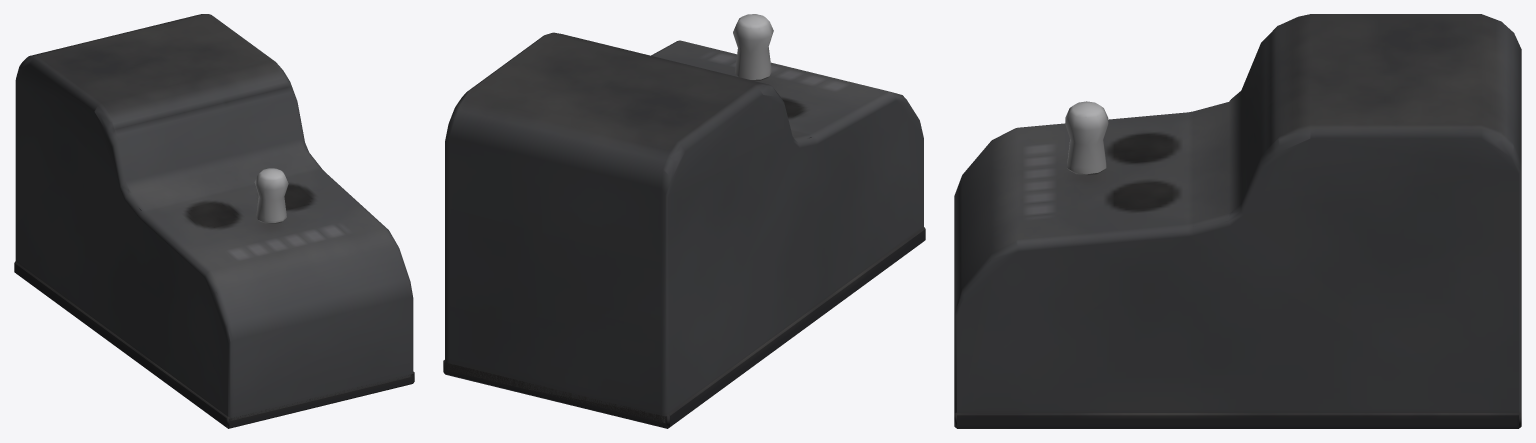
File: CentralConsole.fbx
The picture shows the model from 3 angles, left to right: view 1: azimuth 30°, elevation 25°; view 2: azimuth 150°, elevation 25°; view 3: azimuth 270°, elevation 25°; orthographic projection. The views are drawn at different scales.
Parts seen in each view (by area): view 1: CentralConsole_LOD0; view 2: CentralConsole_LOD0; view 3: CentralConsole_LOD0.
Boxes of the visible parts, x1,y1,x2,y2 form: CentralConsole_LOD0: [14, 14, 414, 428]; CentralConsole_LOD0: [443, 14, 925, 428]; CentralConsole_LOD0: [954, 14, 1521, 428].
Size of what is drawn, in the model's own units: 0.304 by 0.35 by 0.6.
1 material, 1 textured.
